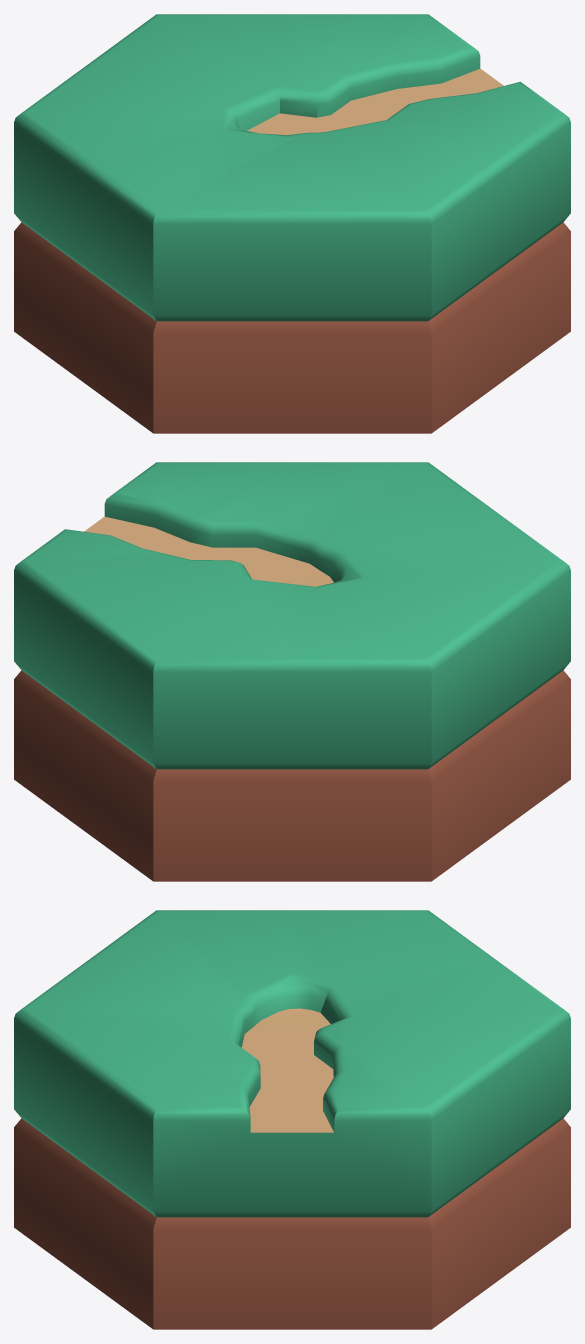
Rendered from hex_forest_roadA_detail.glb.
The picture shows the model from 3 angles, top to bottom: view 1: azimuth 30°, elevation 25°; view 2: azimuth 150°, elevation 25°; view 3: azimuth 270°, elevation 25°; orthographic projection.
Parts seen in each view (by area): view 1: hex_forest_roadA_detail; view 2: hex_forest_roadA_detail; view 3: hex_forest_roadA_detail.
Boxes of the visible parts, x1=… form: hex_forest_roadA_detail: x1=14, y1=14, x2=570, y2=433; hex_forest_roadA_detail: x1=14, y1=462, x2=570, y2=881; hex_forest_roadA_detail: x1=14, y1=910, x2=570, y2=1329.
Size of the model in its own units: 2 by 1 by 2.31.
